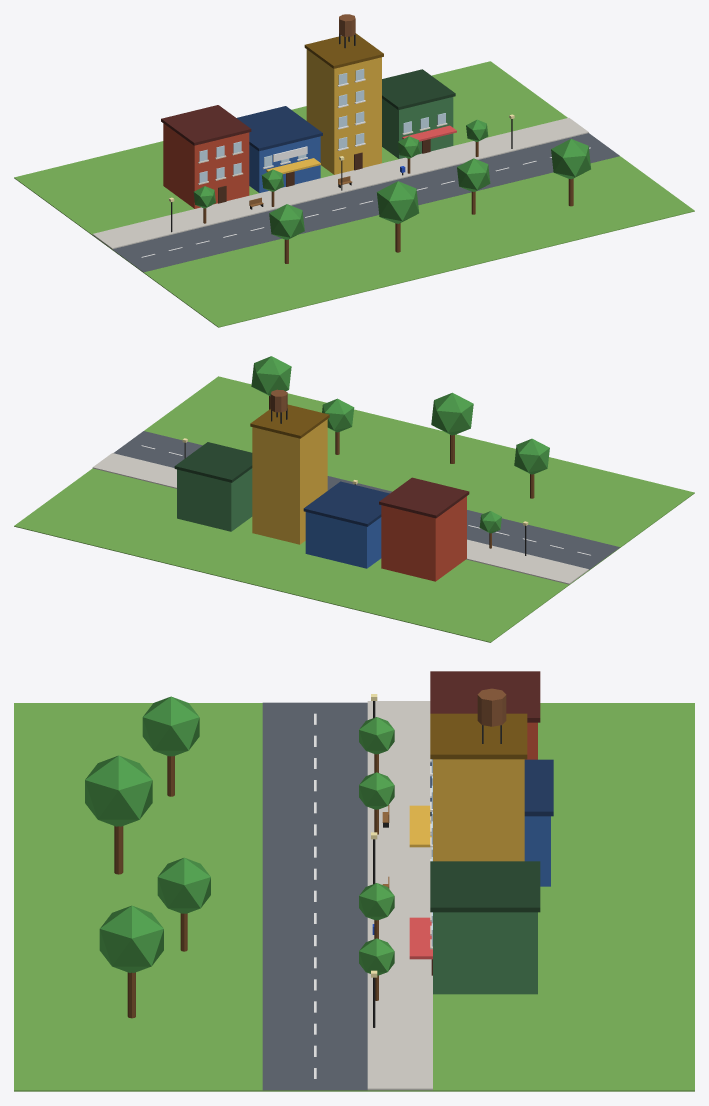
The model's file is sample-street.glb.
3 renders of one model, top to bottom at view 1: azimuth 30°, elevation 25°; view 2: azimuth 150°, elevation 25°; view 3: azimuth 270°, elevation 25°, orthographic. The views are drawn at different scales.
Visible parts, largest first — view 1: Grass, Road, Sidewalk, Yellow tower walls, Red house walls, Green café walls, Blue shop roof, Red house roof, Green café roof, Blue shop walls, Yellow tower roof, Park tree 2 crown (+3 smaller); view 2: Grass, Yellow tower walls, Road, Red house walls, Sidewalk, Green café walls, Blue shop walls, Blue shop roof, Red house roof, Green café roof, Yellow tower roof, Park tree 2 crown (+3 smaller); view 3: Grass, Road, Sidewalk, Yellow tower walls, Green café walls, Green café roof, Red house roof, Yellow tower roof, Park tree 2 crown, Park tree 4 crown, Park tree 1 crown, Park tree 3 crown (+9 smaller).
Part boxes in pixels (bbox=[...]): Grass: bbox=[14, 61, 694, 327]; Road: bbox=[112, 133, 619, 272]; Sidewalk: bbox=[92, 117, 588, 249]; Yellow tower walls: bbox=[306, 49, 381, 174]; Red house walls: bbox=[163, 123, 249, 208]; Green café walls: bbox=[382, 97, 453, 158]; Blue shop roof: bbox=[237, 106, 322, 151]; Red house roof: bbox=[161, 105, 251, 145]; Green café roof: bbox=[382, 69, 455, 109]; Blue shop walls: bbox=[249, 136, 320, 192]; Yellow tower roof: bbox=[304, 33, 383, 68]; Park tree 2 crown: bbox=[376, 181, 419, 223]; Grass: bbox=[14, 376, 694, 642]; Yellow tower walls: bbox=[252, 419, 327, 544]; Road: bbox=[113, 431, 619, 569]; Red house walls: bbox=[381, 496, 466, 581]; Sidewalk: bbox=[92, 453, 588, 584]; Green café walls: bbox=[177, 468, 252, 531]; Blue shop walls: bbox=[305, 512, 381, 568]; Blue shop roof: bbox=[303, 481, 389, 526]; Red house roof: bbox=[379, 477, 469, 518]; Green café roof: bbox=[174, 442, 252, 482]; Yellow tower roof: bbox=[250, 404, 329, 438]; Park tree 2 crown: bbox=[431, 392, 473, 435]; Grass: bbox=[14, 703, 694, 1091]; Road: bbox=[262, 702, 367, 1090]; Sidewalk: bbox=[367, 701, 432, 1090]; Yellow tower walls: bbox=[433, 759, 524, 861]; Green café walls: bbox=[433, 912, 537, 994]; Green café roof: bbox=[430, 861, 540, 912]; Red house roof: bbox=[430, 671, 540, 722]; Yellow tower roof: bbox=[430, 713, 527, 759]; Park tree 2 crown: bbox=[85, 755, 152, 826]; Park tree 4 crown: bbox=[99, 905, 163, 972]; Park tree 1 crown: bbox=[142, 696, 199, 756]; Park tree 3 crown: bbox=[157, 857, 210, 913].
Size of the model in its own units: 70 by 19.45 by 52.
